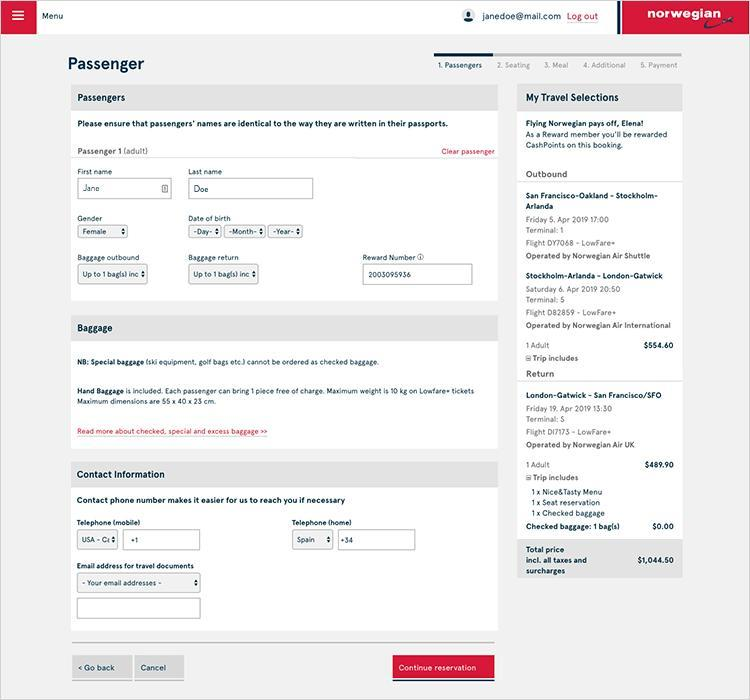button: (394, 655, 495, 680), (73, 656, 134, 679), (135, 655, 185, 678)
dropdown: (78, 573, 202, 594), (79, 265, 148, 285), (190, 265, 259, 285), (78, 530, 118, 550), (294, 530, 333, 549), (79, 226, 129, 239), (226, 226, 266, 238), (269, 226, 304, 239), (189, 226, 222, 239)
input: (190, 178, 313, 201), (79, 599, 202, 620), (363, 265, 474, 285), (79, 180, 172, 199), (340, 530, 416, 552), (125, 531, 200, 551)
